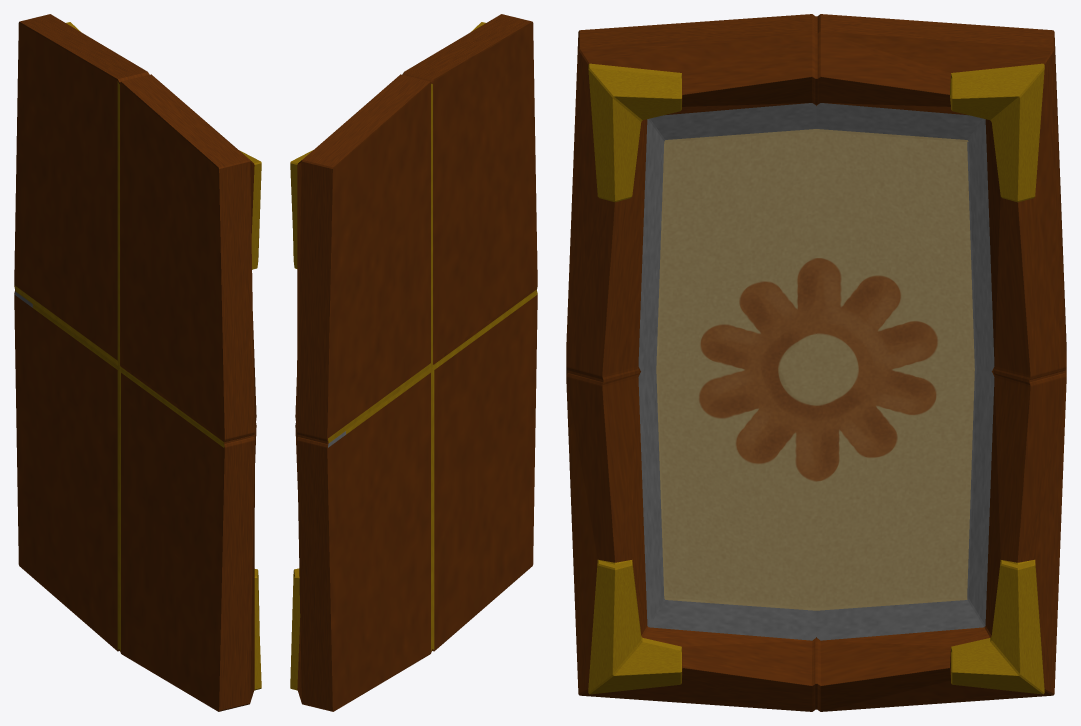
The model's file is PictureFrame2.fbx.
3 views of the same model, side by side, from view 1: azimuth 30°, elevation 25°; view 2: azimuth 150°, elevation 25°; view 3: azimuth 270°, elevation 25° (orthographic). The views are drawn at different scales.
Parts seen in each view (by area): view 1: Cube; view 2: Cube; view 3: Cube.
Boxes of the visible parts, box(x1,y1,x2,y2) form: Cube: box(14, 14, 261, 711); Cube: box(290, 14, 537, 711); Cube: box(566, 14, 1066, 711).
Size of the model in its own units: 42.03 by 63.06 by 6.42.
